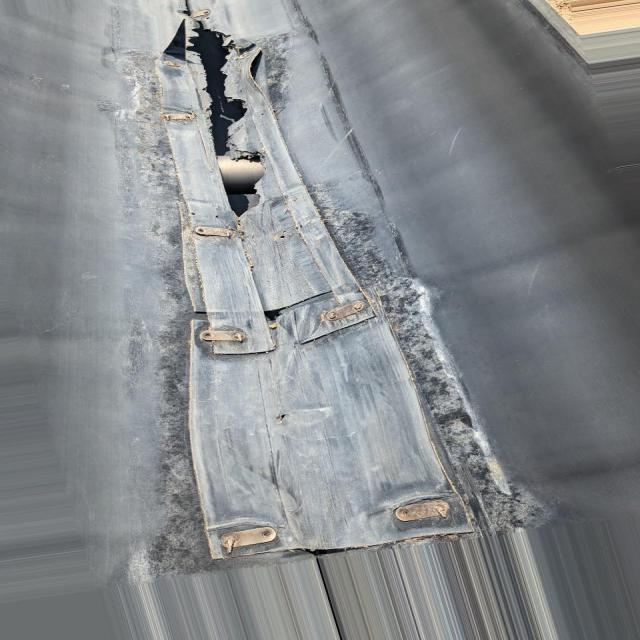Hole: (193, 32, 267, 213)
patch work: (149, 12, 522, 557)
